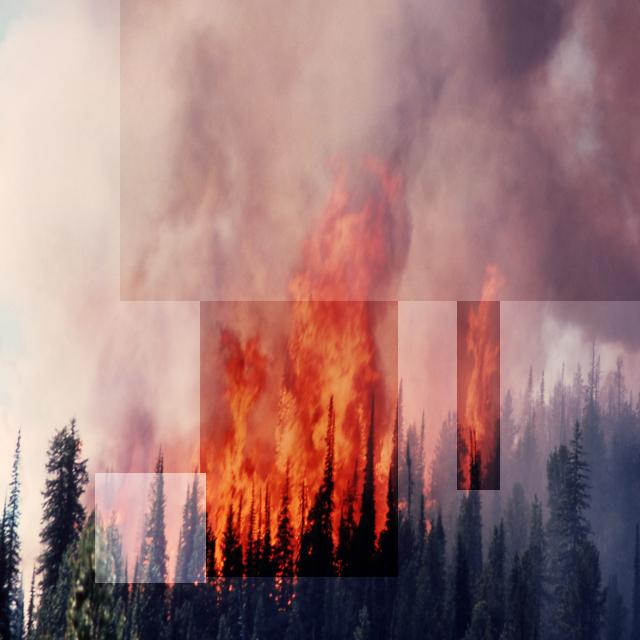Fire: (200, 264, 398, 577), (95, 473, 206, 583), (457, 268, 500, 490)
Smoke: (120, 0, 640, 301)
